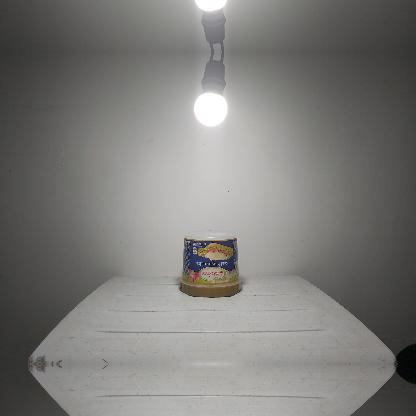Lady-s-Choice: (180, 228, 240, 298)
